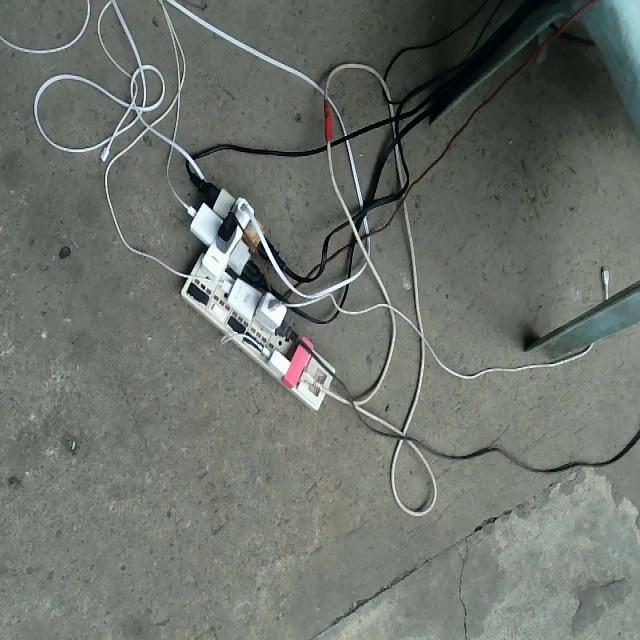-: (161, 145, 347, 423)
